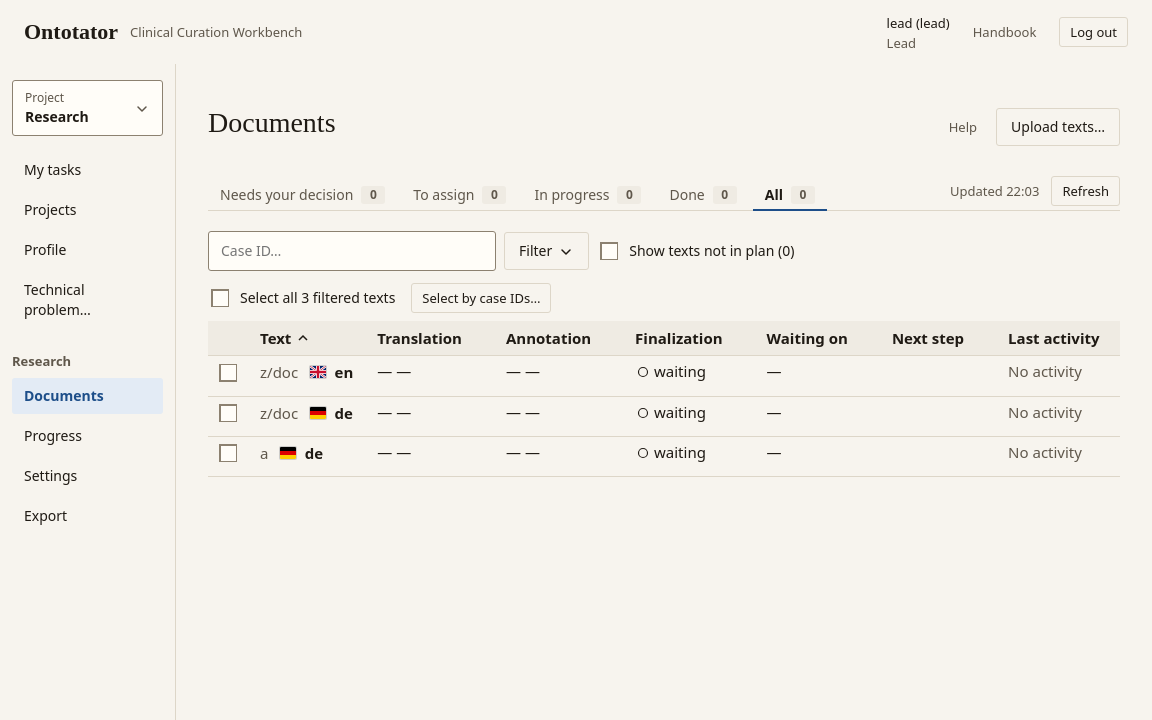
Test: assigns the selected case through the selection bar and refreshes actual inventories
Expected: the button with aria-label "Text z/doc en" is shown, [260,360,353,384]
Click the checkbox named "Select z/doc en".
click(228, 373)  # box [216,361,240,385]
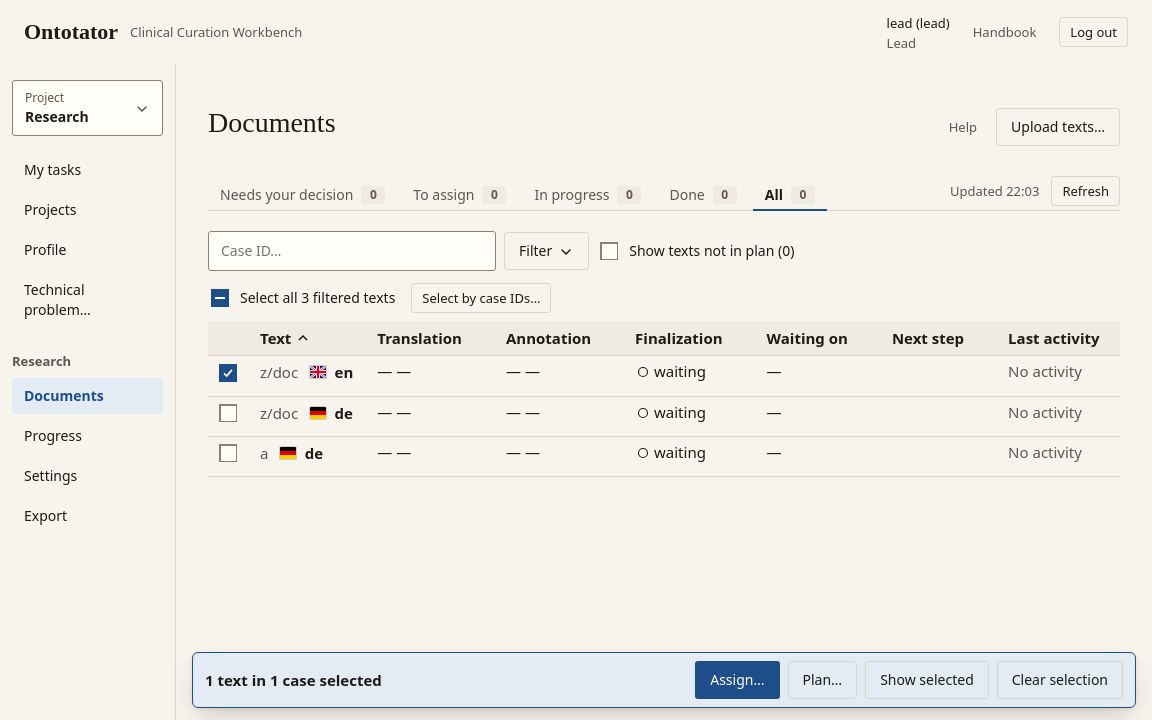
Click the checkbox named "Select z/doc de".
click(228, 414)  # box [216,402,240,426]
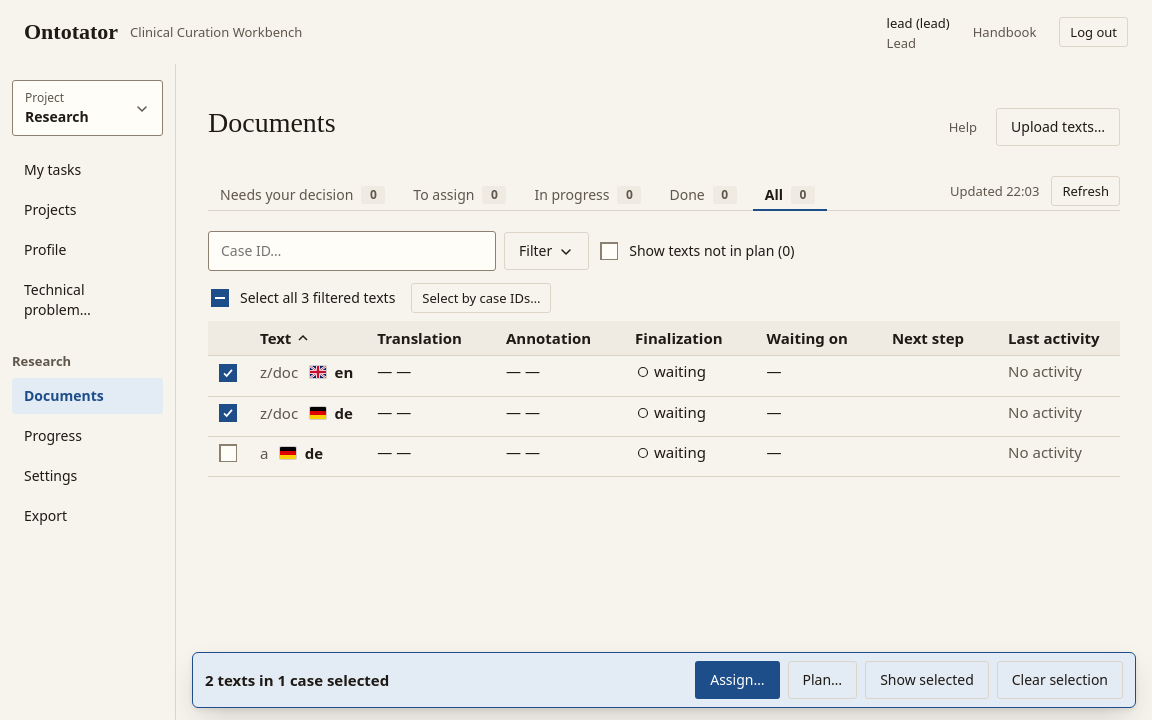
Expected: the text "2 texts in 1 case selected" is shown, [205,670,389,690]
Click the button "Assign…".
click(737, 680)  # box [695,661,780,699]
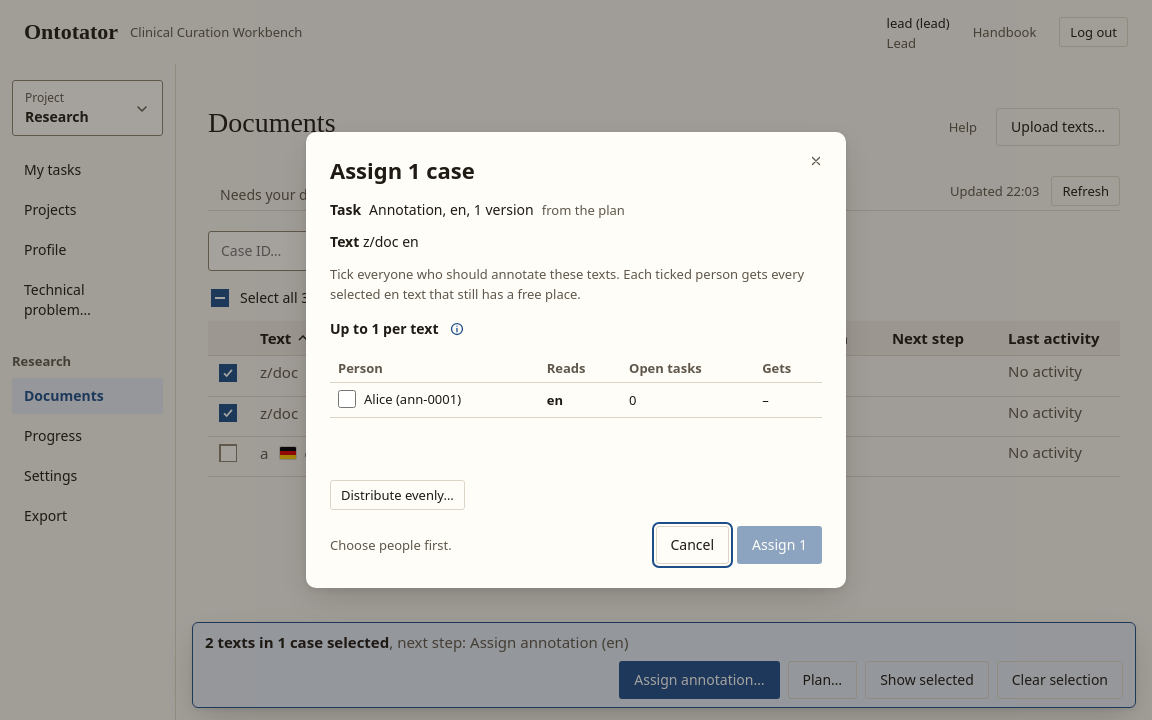
Click the checkbox labelled "Alice (ann-0001)".
click(347, 399)  # box [338,390,356,408]
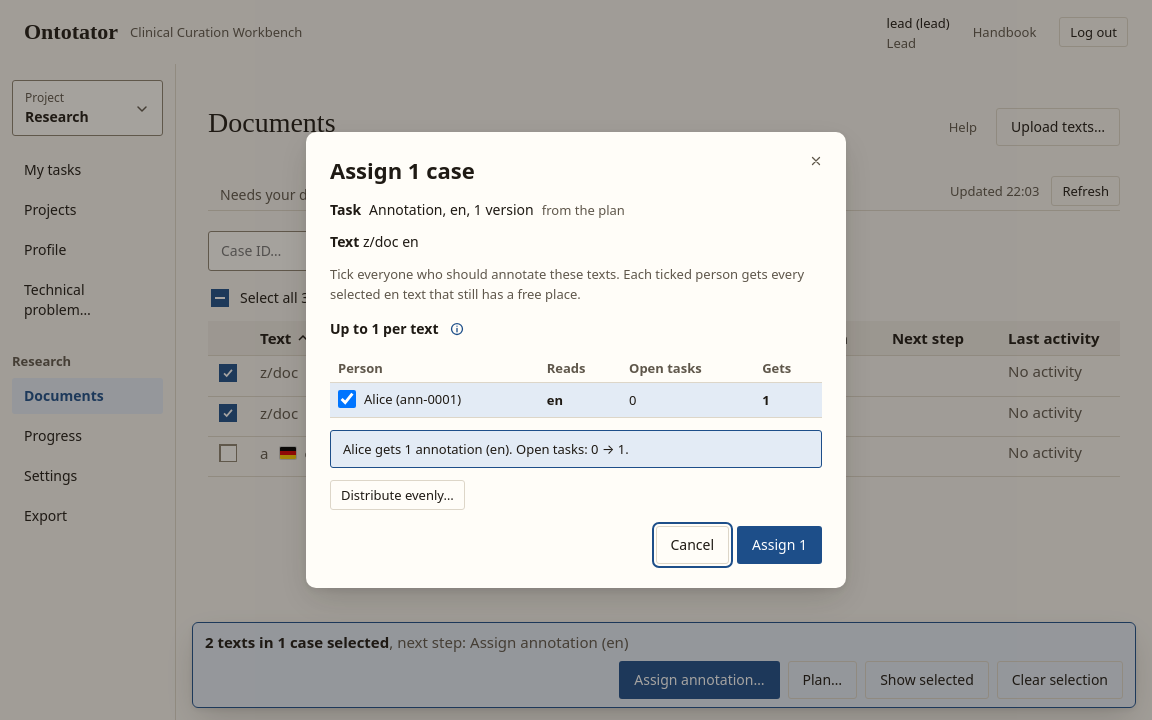
Expected: the button "Assign 1" does not have attribute aria-disabled
Click the button "Assign 1".
click(780, 545)  # box [737,526,822,564]
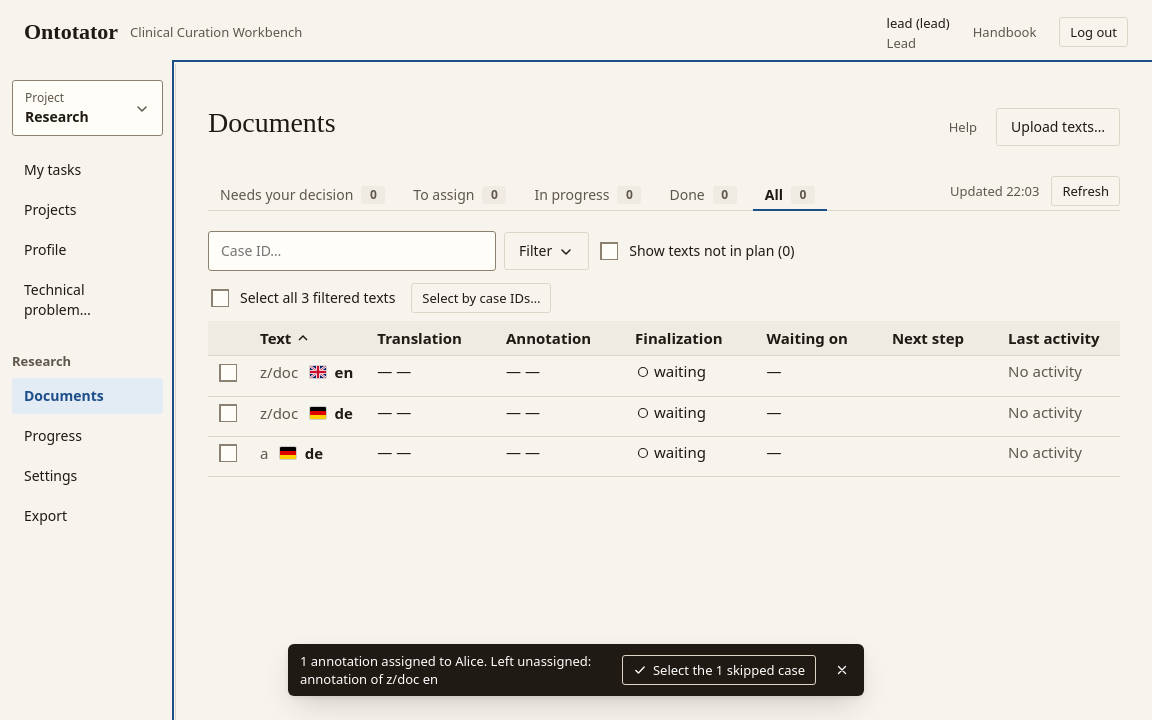
Expected: the heading "Assign 1 case" is gone
Expected: the button "selection" is gone
